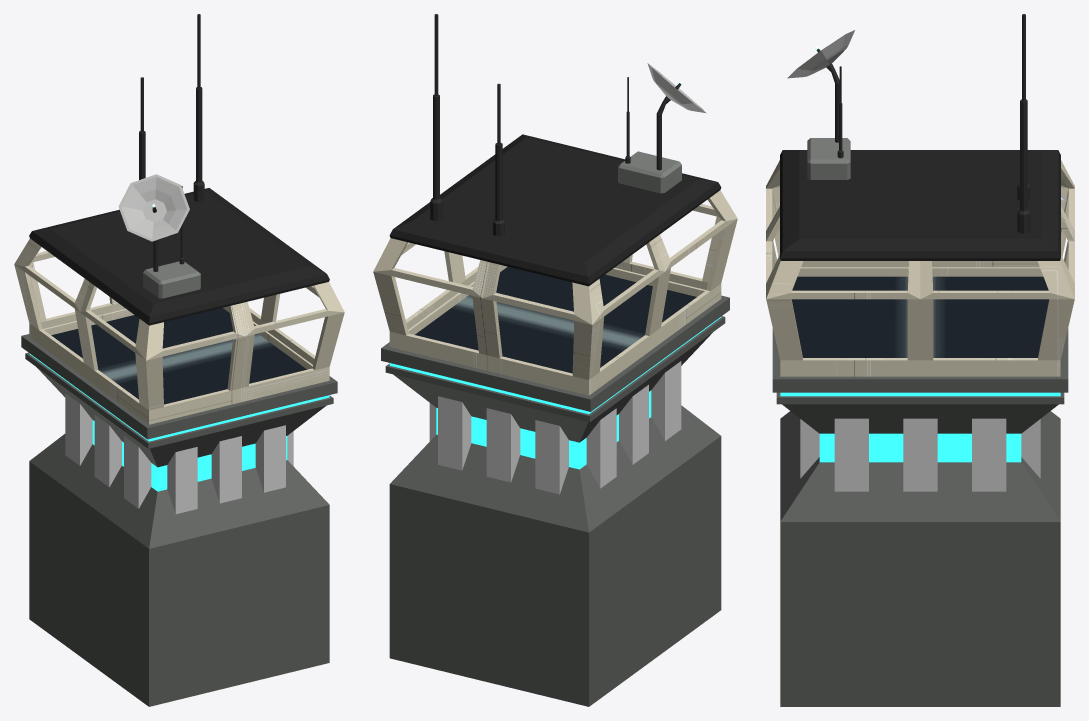
Rendered from bashnya 1.fbx.
3 views of the same model, side by side, from view 1: azimuth 30°, elevation 25°; view 2: azimuth 150°, elevation 25°; view 3: azimuth 270°, elevation 25° (orthographic). The views are drawn at different scales.
Parts seen in each view (by area): view 1: Плоскость.001, Плоскость.007, Плоскость.002, Куб; view 2: Плоскость.001, Плоскость.007, Плоскость.002, Куб; view 3: Плоскость.001, Плоскость.007, Плоскость.002, Куб.
Boxes of the visible parts, x1,y1,x2,y2 form: Плоскость.001: (21, 308, 337, 706); Плоскость.007: (29, 14, 329, 325); Плоскость.002: (14, 238, 344, 424); Куб: (65, 393, 293, 514); Плоскость.001: (381, 266, 729, 706); Плоскость.007: (389, 14, 721, 286); Плоскость.002: (373, 190, 737, 395); Куб: (429, 361, 681, 494); Плоскость.001: (772, 276, 1068, 706); Плоскость.007: (780, 14, 1060, 260); Плоскость.002: (766, 160, 1074, 376); Куб: (800, 418, 1040, 491).
Size of the model in its own units: 7.37 by 20.5 by 8.47.
Materials: 4 (2 with a texture image).
